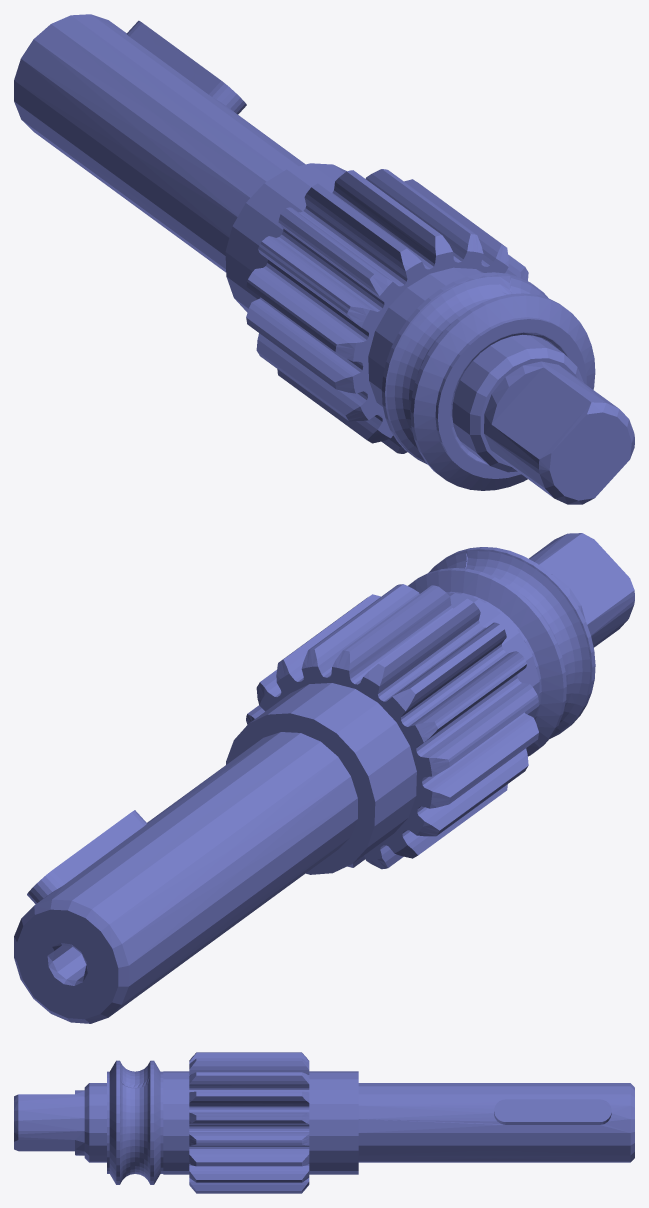
The model's file is bras1.glb.
The picture shows the model from 3 angles, top to bottom: view 1: azimuth 30°, elevation 25°; view 2: azimuth 150°, elevation 25°; view 3: azimuth 270°, elevation 25°; orthographic projection. The views are drawn at different scales.
Bounding box in the file's own units: 0.000796 × 0.000803 × 0.00353.
